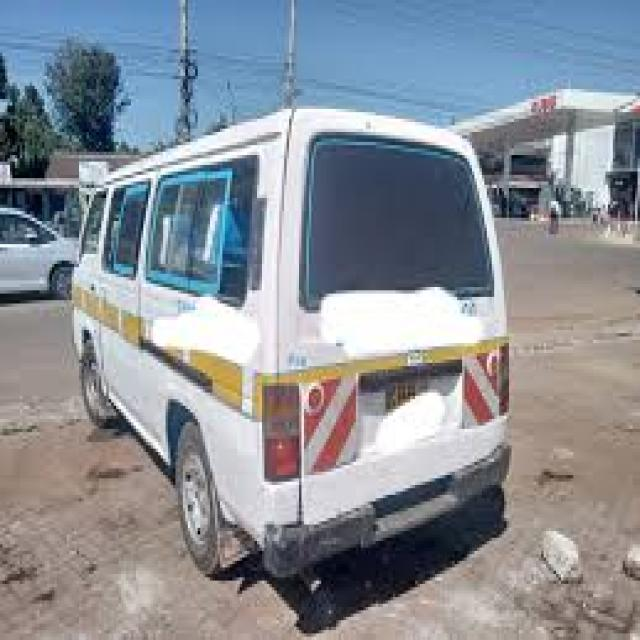matatu: (64, 95, 552, 640)
